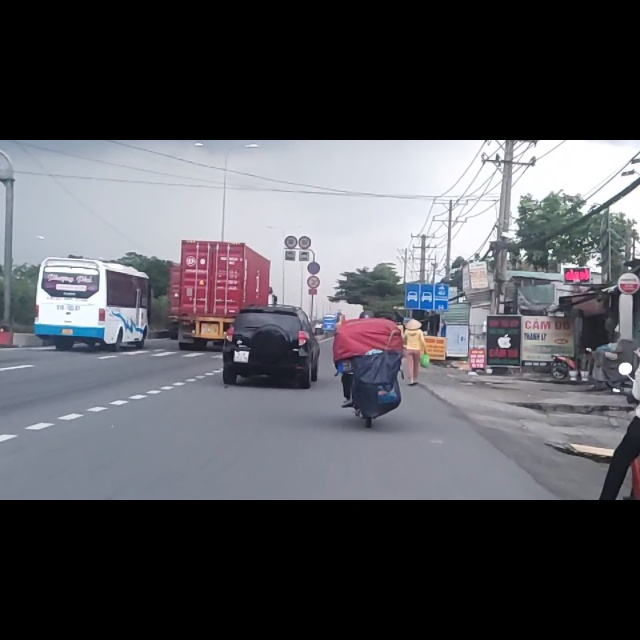bien_chi_dan: (405, 254, 449, 302), (306, 215, 321, 239), (307, 242, 320, 263)
